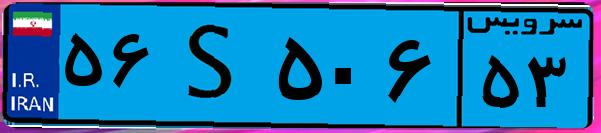0: (330, 28, 385, 110)
3: (525, 38, 570, 115)
5: (270, 28, 330, 110), (57, 26, 110, 100), (475, 38, 525, 113)
6: (385, 28, 445, 110), (110, 28, 158, 98)
S: (158, 12, 270, 120)
